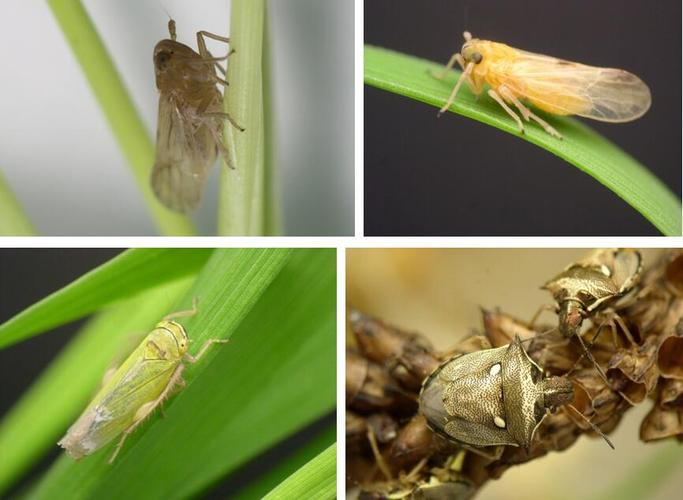Delphacidae: (57, 295, 230, 466), (416, 317, 615, 462), (505, 247, 679, 405), (428, 29, 653, 140), (148, 17, 244, 218)
